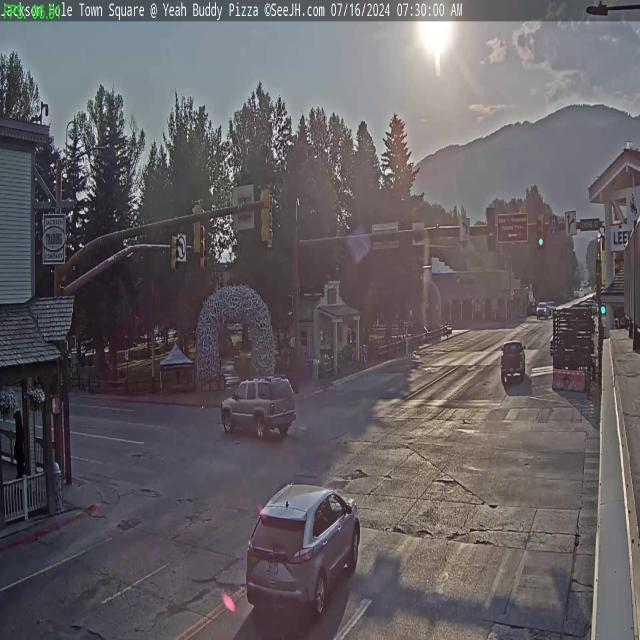suv: (244, 474, 364, 638), (220, 377, 299, 438), (500, 338, 525, 379)
traffic light: (260, 184, 273, 244), (190, 200, 203, 256), (170, 233, 180, 280), (486, 207, 496, 252), (537, 214, 546, 248)
